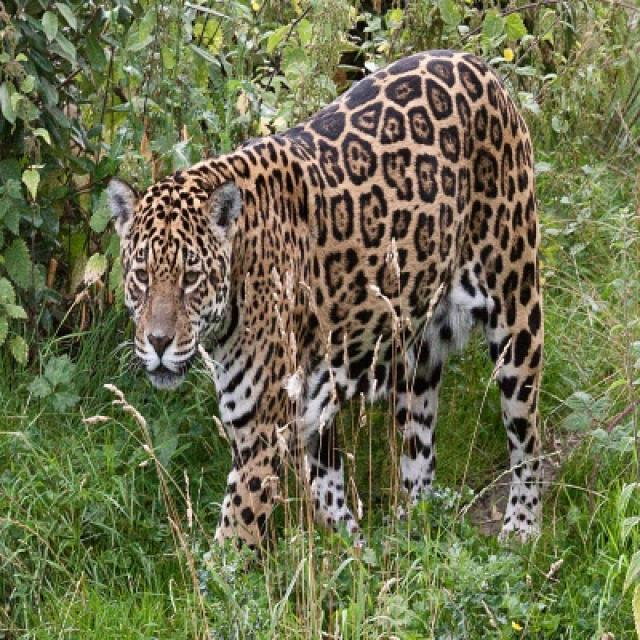Jaguar: (104, 51, 547, 550)
